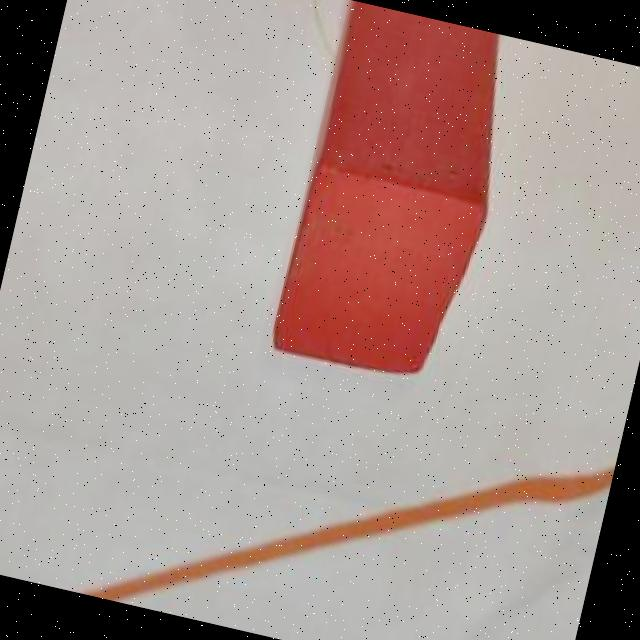redbox: (264, 0, 530, 393)
